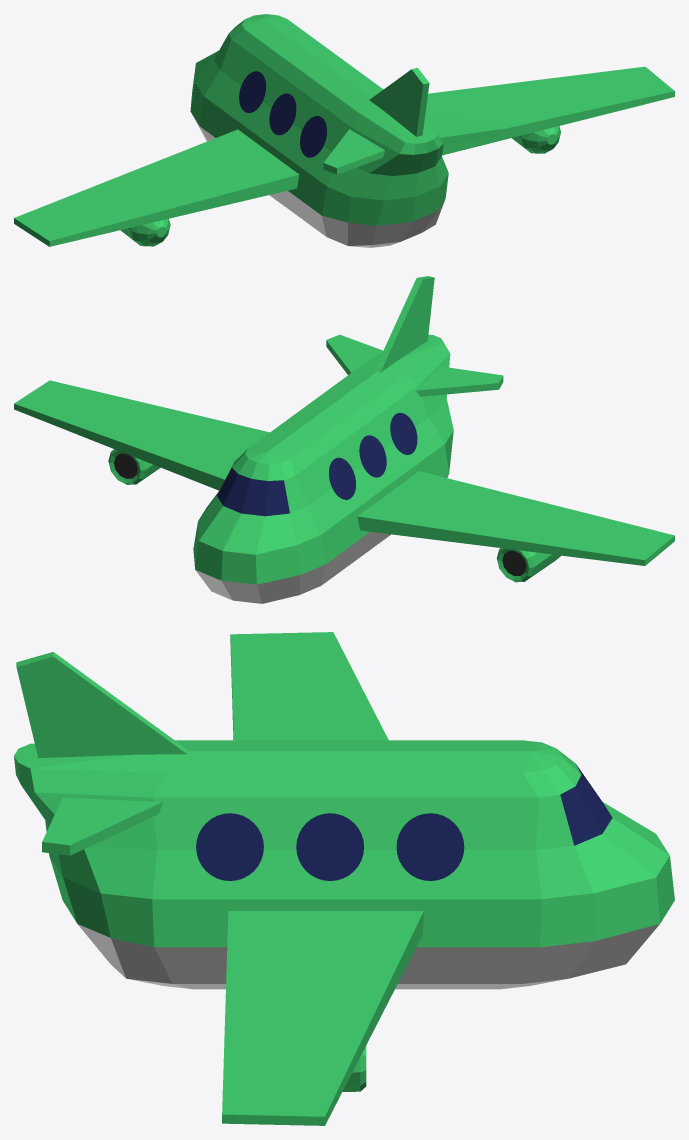
Rendered from Flugzeug.fbx.
3 renders of one model, top to bottom at view 1: azimuth 30°, elevation 25°; view 2: azimuth 150°, elevation 25°; view 3: azimuth 270°, elevation 25°, orthographic. The views are drawn at different scales.
Visible parts, largest first — view 1: Sphere; view 2: Sphere; view 3: Sphere.
Part boxes in pixels (<box>): Sphere: <box>14,14,674,247</box>; Sphere: <box>14,276,674,603</box>; Sphere: <box>14,632,674,1125</box>.
Bounding box in the file's own units: 892 × 274 × 514.
